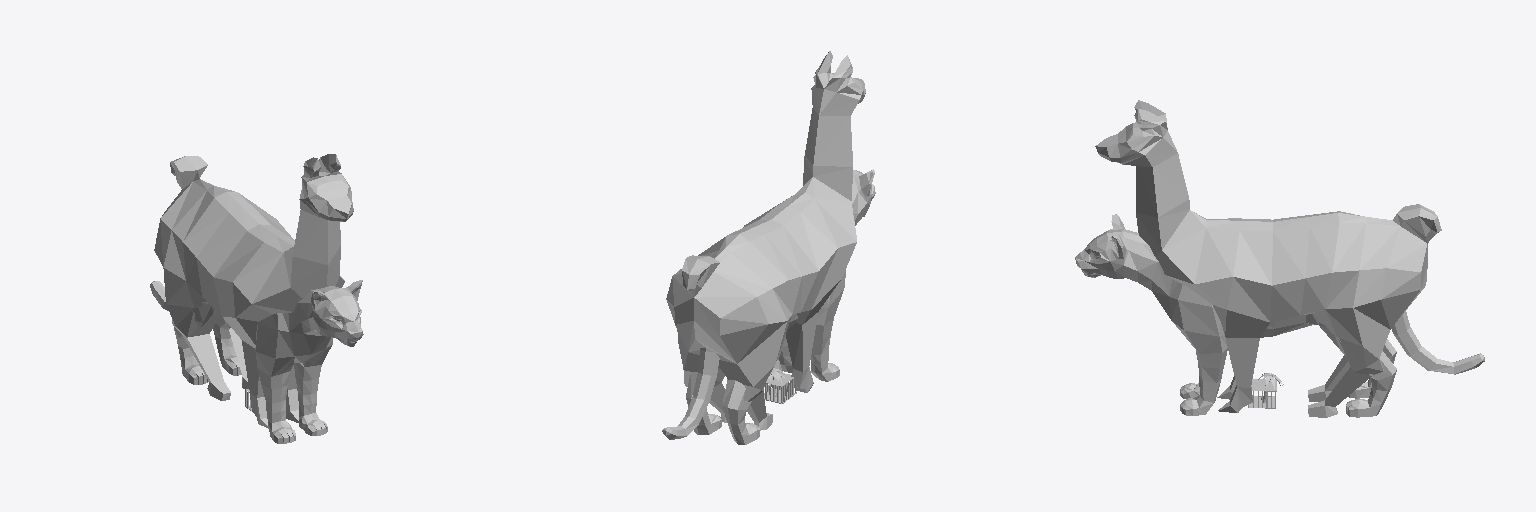
Rendered from Llama.obj.
The picture shows the model from 3 angles: view 1: azimuth 30°, elevation 25°; view 2: azimuth 150°, elevation 25°; view 3: azimuth 270°, elevation 25°; orthographic projection.
Parts seen in each view (by area): view 1: Cube_Cube.002, MountainPuma.001; view 2: Cube_Cube.002, MountainPuma.001, Cage; view 3: Cube_Cube.002, MountainPuma.001, Cage.
Part boxes in pixels (x1,y1,x2,y2): Cube_Cube.002: (154, 154, 353, 428); MountainPuma.001: (150, 280, 363, 443); Cube_Cube.002: (666, 51, 865, 430); MountainPuma.001: (662, 169, 875, 444); Cage: (763, 371, 796, 403); Cube_Cube.002: (1095, 100, 1441, 417); MountainPuma.001: (1075, 214, 1484, 417); Cage: (1248, 379, 1276, 408).
Bounding box in the file's own units: 59.3 × 153 × 188.